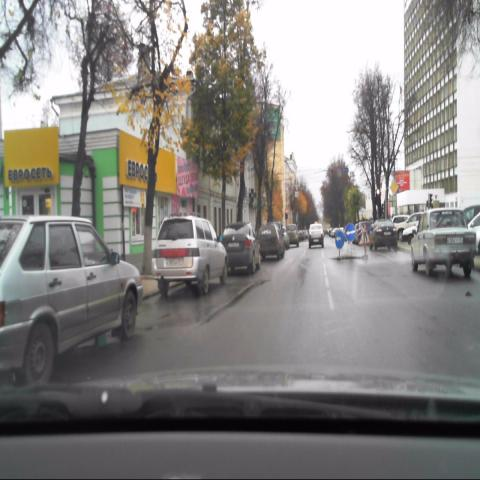4_1_2_2: (344, 222, 356, 242)
